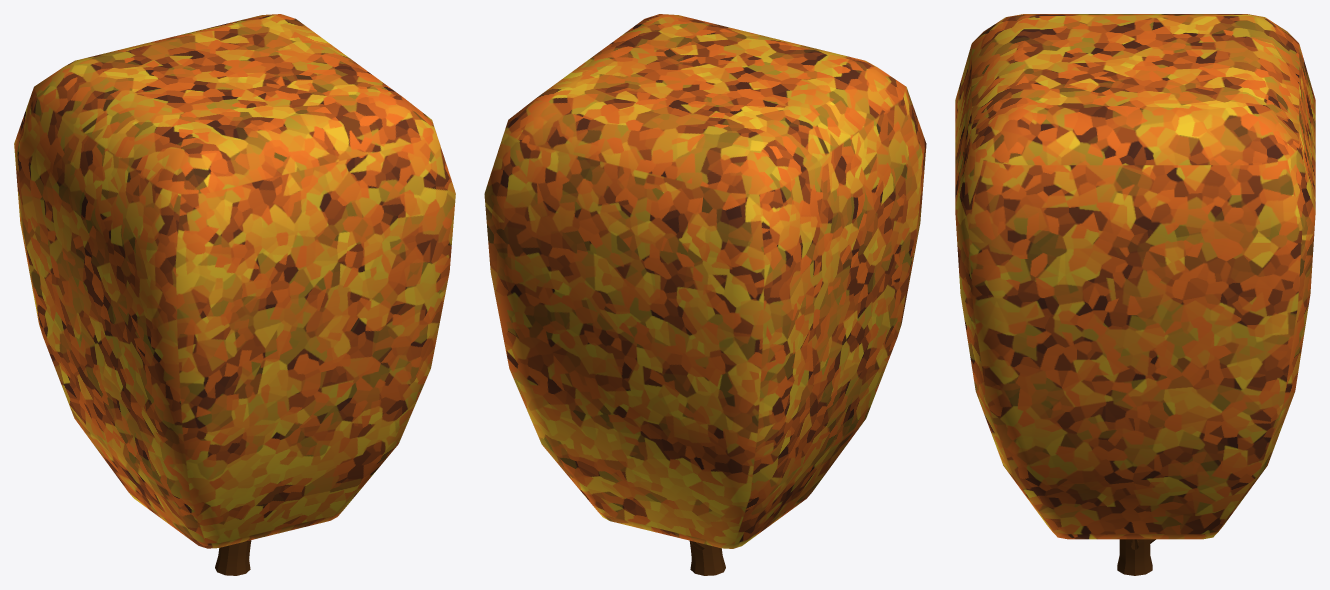
The model's file is Hedge1.fbx.
3 views of the same model, side by side, from view 1: azimuth 30°, elevation 25°; view 2: azimuth 150°, elevation 25°; view 3: azimuth 270°, elevation 25° (orthographic). The views are drawn at different scales.
Visible parts, largest first — view 1: Hedge001_Model; view 2: Hedge001_Model; view 3: Hedge001_Model.
Part boxes in pixels (left/top/right/bottom): Hedge001_Model: left=14, top=14, right=455, bottom=575; Hedge001_Model: left=484, top=14, right=926, bottom=575; Hedge001_Model: left=955, top=14, right=1315, bottom=575.
Size of the model in its own units: 47.22 by 47.22 by 73.21.
